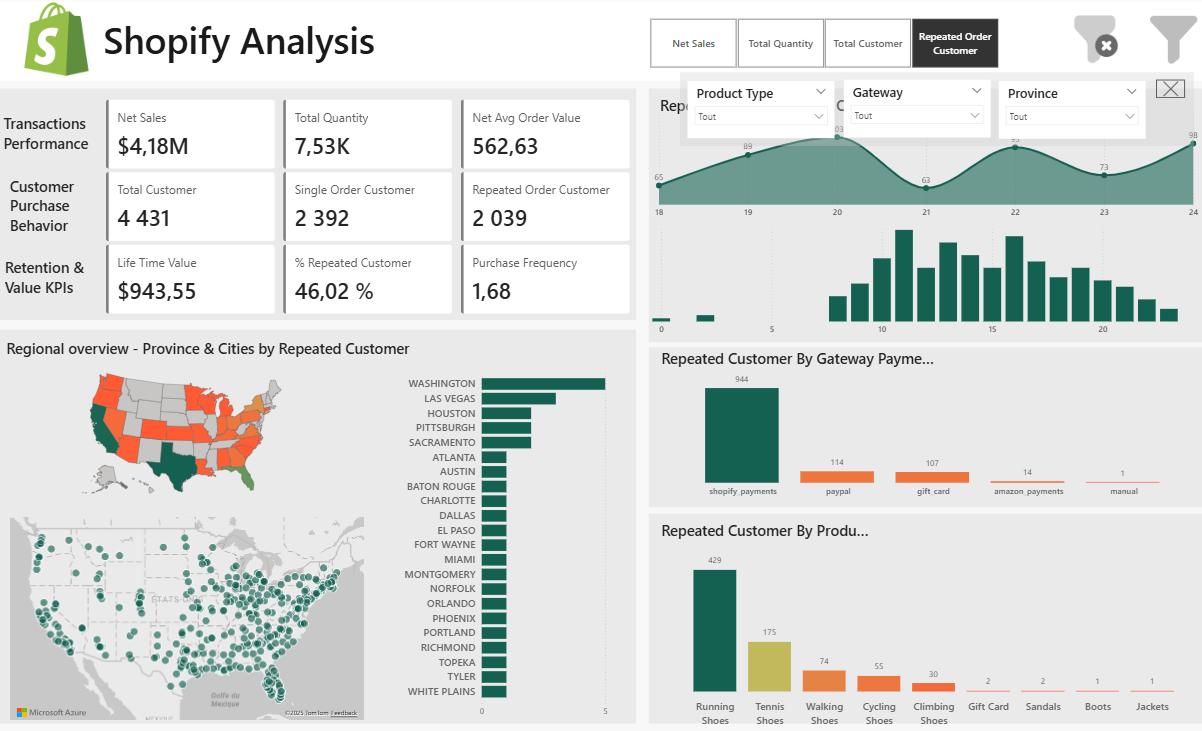

Layout of this report page (visuals, bound fields, positions):
{"tool":"powerbi","page":{"name":"Home","canvas":[1750,1070],"ordinal":0},"visuals":[{"type":"shape","title":"Shopify Analysis","box":[0,0.3,1750,123.6],"z":0,"group":"g3"},{"type":"group","id":"g1","title":"KPIs_grp","box":[0,135.3,925,337],"z":0},{"type":"shape","title":"KPIs_Container","box":[0,135.3,925,337],"z":0,"group":"g1"},{"type":"cardVisual","title":"Net sales","fields":{"Data":["All Measures.Net Sales","All Measures.Total Quantity","All Measures.Net Avg Order Value"]},"box":[143.3,140.2,782.2,121.5],"z":0,"group":"g2"},{"type":"image","title":"Logo","box":[13.9,9.7,134.9,107.1],"z":1000,"group":"g3"},{"type":"group","id":"g2","title":"KPIs","box":[0,140.2,925,332.1],"z":1000,"group":"g1"},{"type":"textbox","box":[0,165.7,145.4,70.5],"z":1000,"group":"g2"},{"type":"shape","title":"Location_Container","box":[0,485.2,925,572.4],"z":1000},{"type":"image","title":"Filter_Btn","box":[1671.9,20,69.1,87.2],"z":2000,"group":"g3"},{"type":"cardVisual","title":"Net sales","fields":{"Data":["All Measures.Total Customer","All Measures.Single Order Customer","All Measures.Repeated Order Customer"]},"box":[143.3,246,782.2,121.5],"z":2000,"group":"g2"},{"type":"shapeMap","fields":{"Value":["All Measures.Net Sales"],"Category":["shopify_sales.Billing Address Province"]},"box":[0,534.3,528.8,203.5],"z":2000},{"type":"group","id":"g3","title":"NavBar_grp","box":[0,0.3,1750,123.6],"z":3000},{"type":"image","title":"Remove_FilterBtn","box":[1550.1,1.8,83.6,121.8],"z":3000,"group":"g3"},{"type":"textbox","box":[8.2,255.8,133.1,103.8],"z":3000,"group":"g2"},{"type":"slicer","title":"Select_Measures","fields":{"Values":["Measures 2.Measures"]},"box":[925,31.2,545.2,74.5],"z":4000,"group":"g3"},{"type":"cardVisual","title":"Net sales","fields":{"Data":["All Measures.Life Time Value","All Measures.% Repeated Customer","All Measures.Purchase Frequency"]},"box":[143.3,351.8,782.2,121.5],"z":4000,"group":"g2"},{"type":"azureMap","fields":{"Category":["shopify_sales.Correct Location"]},"box":[9.1,752.3,525.2,305.3],"z":4000},{"type":"textbox","box":[2,375.3,143.3,74.5],"z":5000,"group":"g2"},{"type":"clusteredBarChart","fields":{"Y":["All Measures.Net Sales"],"Category":["shopify_sales.CITY"]},"box":[581.5,534.3,343.5,523.4],"z":5000},{"type":"cardVisual","fields":{"Data":["All Measures.Dynamic Location Title"]},"box":[9.1,485.2,663.3,50.9],"z":6000},{"type":"shape","title":"Location_Container","box":[943.2,134.5,806.9,368.9],"z":7000},{"type":"stackedAreaChart","fields":{"Y":["All Measures.Net Sales"],"Category":["shopify_sales.Invoice Date.Variation.Hiérarchie de dates.Jour"]},"box":[943.2,159.9,806.9,172.6],"z":8000},{"type":"clusteredColumnChart","fields":{"Y":["All Measures.Net Sales"],"Category":["shopify_sales.HOUR"]},"box":[943.2,321.7,806.9,181.7],"z":9000},{"type":"cardVisual","fields":{"Data":["All Measures.Dynamic trend Title"]},"box":[959.5,134.5,408.9,45.4],"z":10000},{"type":"shape","title":"Location_Container","box":[943.2,510.7,806.9,232.6],"z":11000},{"type":"shape","title":"Location_Container","box":[943.2,752.3,806.9,305.3],"z":12000},{"type":"clusteredColumnChart","fields":{"Y":["All Measures.Net Sales"],"Category":["shopify_sales.Gateway"]},"box":[965,534.3,785.1,203.5],"z":13000},{"type":"clusteredColumnChart","fields":{"Y":["All Measures.Net Sales"],"Category":["shopify_sales.Product Type"]},"box":[959.5,796,785.1,274.4],"z":14000},{"type":"cardVisual","fields":{"Data":["All Measures.Dynamic Gateway Title"]},"box":[961.3,503.4,408.9,45.4],"z":15000},{"type":"cardVisual","fields":{"Data":["All Measures.Dynamic Product Title"]},"box":[961.3,752.3,310.8,45.4],"z":16000}]}

Visuals, with their boxes in screenshot pixels (x1, y1, x2, y2), scaled from the page's 1750x1070 canvas onto the 1202x731 screenshot:
"Shopify Analysis" shape: region(0, 0, 1201, 85)
"KPIs_grp" group: region(0, 92, 635, 323)
"KPIs_Container" shape: region(0, 92, 635, 323)
"Net sales" cardVisual: region(98, 96, 636, 179)
"Logo" image: region(10, 7, 102, 80)
"KPIs" group: region(0, 96, 635, 323)
textbox: region(0, 113, 100, 161)
"Location_Container" shape: region(0, 331, 635, 723)
"Filter_Btn" image: region(1148, 14, 1196, 73)
"Net sales" cardVisual: region(98, 168, 636, 251)
shapeMap - All Measures.Net Sales x shopify_sales.Billing Address Province: region(0, 365, 363, 504)
"NavBar_grp" group: region(0, 0, 1201, 85)
"Remove_FilterBtn" image: region(1065, 1, 1122, 84)
textbox: region(6, 175, 97, 246)
"Select_Measures" slicer: region(635, 21, 1010, 72)
"Net sales" cardVisual: region(98, 240, 636, 323)
azureMap - shopify_sales.Correct Location: region(6, 514, 367, 723)
textbox: region(1, 256, 100, 307)
clusteredBarChart - All Measures.Net Sales x shopify_sales.CITY: region(399, 365, 635, 723)
cardVisual - All Measures.Dynamic Location Title: region(6, 331, 462, 366)
"Location_Container" shape: region(648, 92, 1201, 344)
stackedAreaChart - All Measures.Net Sales x shopify_sales.Invoice Date.Variation.Hiérarchie de dates.Jour: region(648, 109, 1201, 227)
clusteredColumnChart - All Measures.Net Sales x shopify_sales.HOUR: region(648, 220, 1201, 344)
cardVisual - All Measures.Dynamic trend Title: region(659, 92, 940, 123)
"Location_Container" shape: region(648, 349, 1201, 508)
"Location_Container" shape: region(648, 514, 1201, 723)
clusteredColumnChart - All Measures.Net Sales x shopify_sales.Gateway: region(663, 365, 1201, 504)
clusteredColumnChart - All Measures.Net Sales x shopify_sales.Product Type: region(659, 544, 1198, 730)
cardVisual - All Measures.Dynamic Gateway Title: region(660, 344, 941, 375)
cardVisual - All Measures.Dynamic Product Title: region(660, 514, 874, 545)
